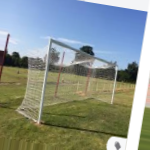goals: (12, 36, 119, 129)
